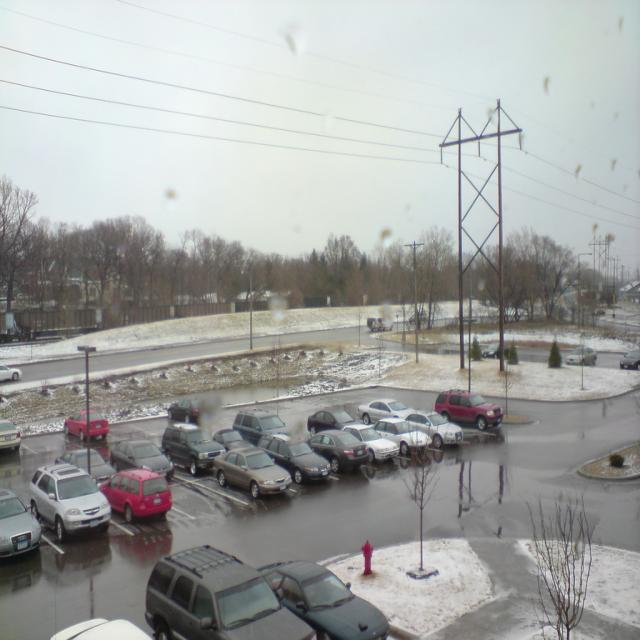car: (140, 543, 316, 639), (262, 559, 390, 639), (22, 467, 107, 552), (429, 385, 506, 434), (0, 485, 40, 556), (51, 614, 151, 639), (60, 403, 109, 439), (164, 395, 203, 426), (567, 346, 597, 367), (481, 337, 498, 356), (619, 348, 639, 364)
